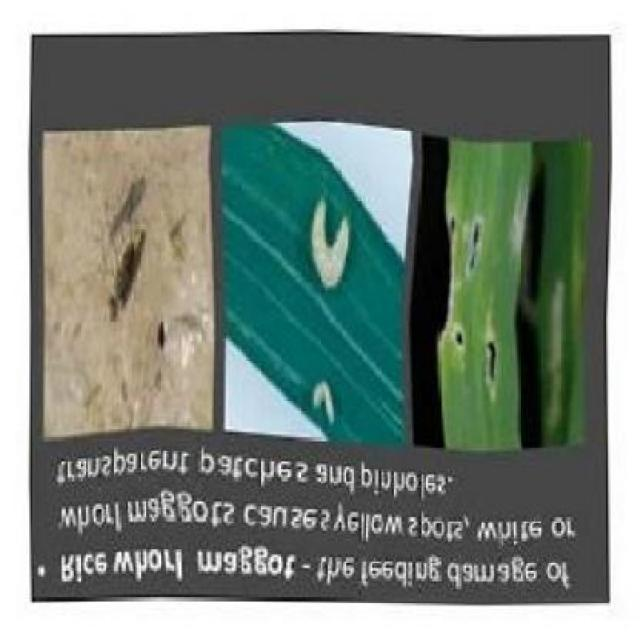whorl-maggot: (306, 185, 359, 303), (308, 368, 337, 424)
